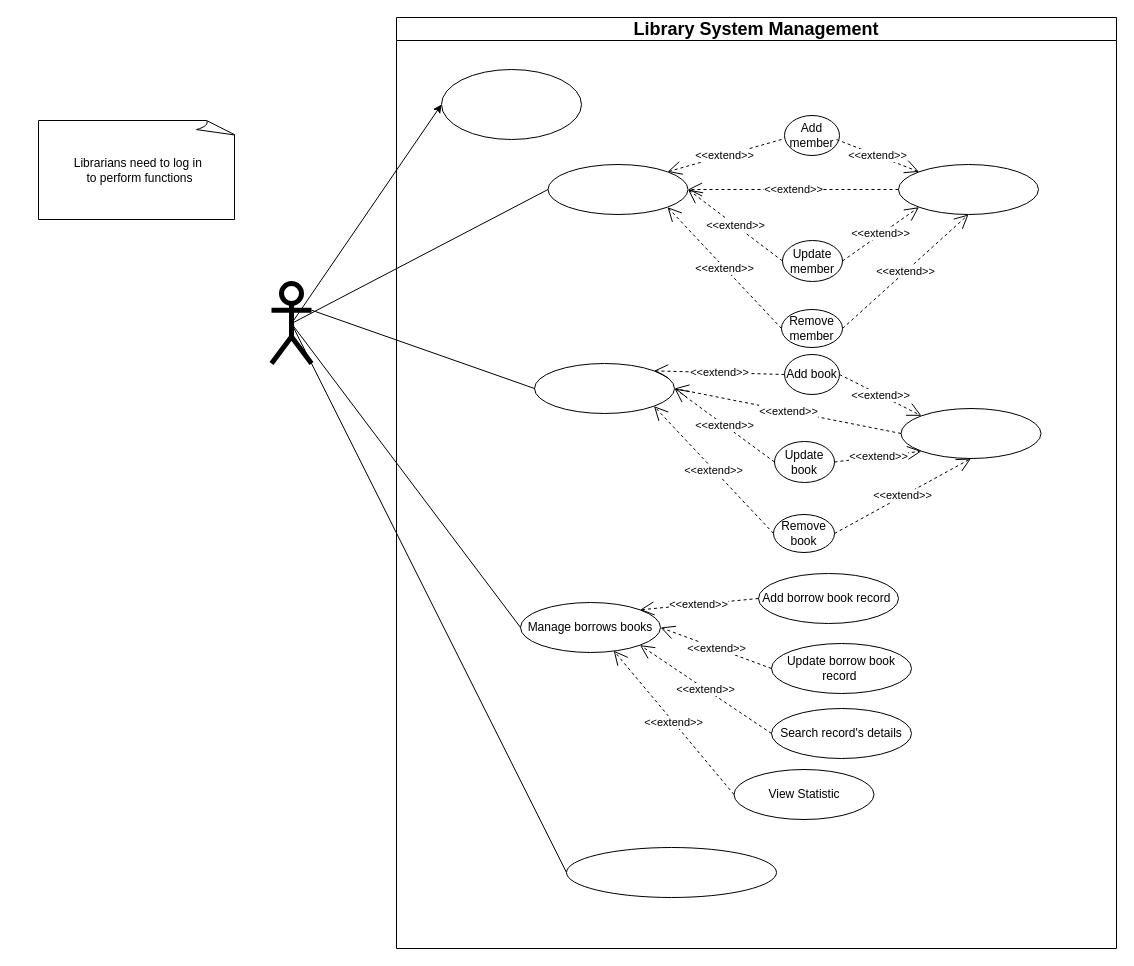
Some shapes in this 1134 by 966 pixel diagram are drawn without their labels. Here are the shapes that lost their labels. From the top down, the centre of each, then its label:
[511,104]: Login
[617,189]: Manage members
[968,189]: Search member's details
[291,323]: Librarian
[604,388]: Manage books
[970,433]: Search book's details
[671,872]: Calculation and management of fines for late returns.
